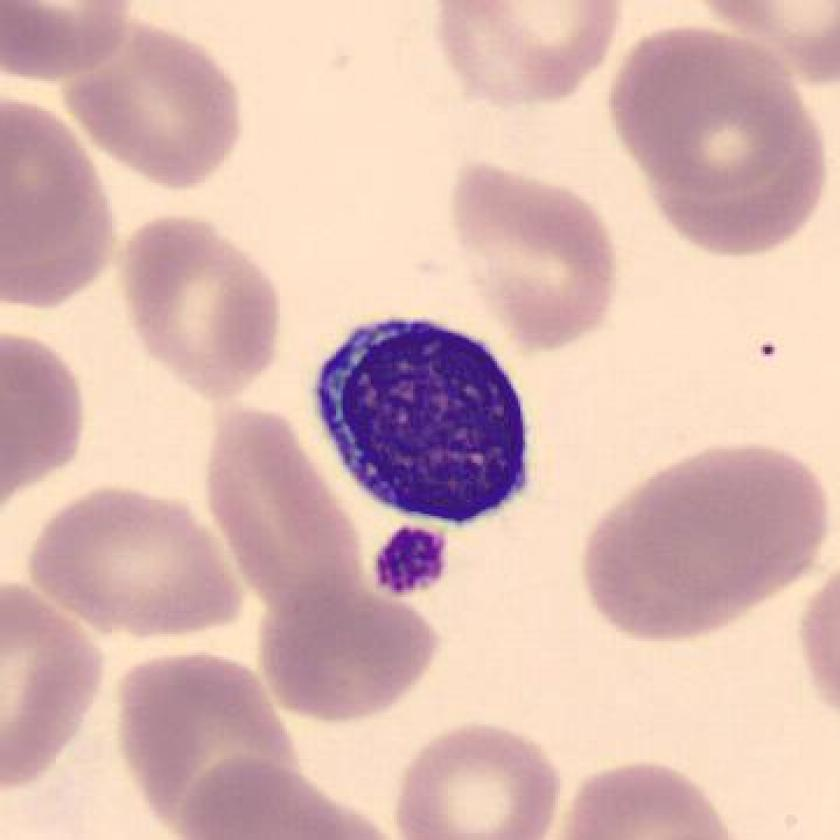lymphocyte: (302, 292, 547, 538)
